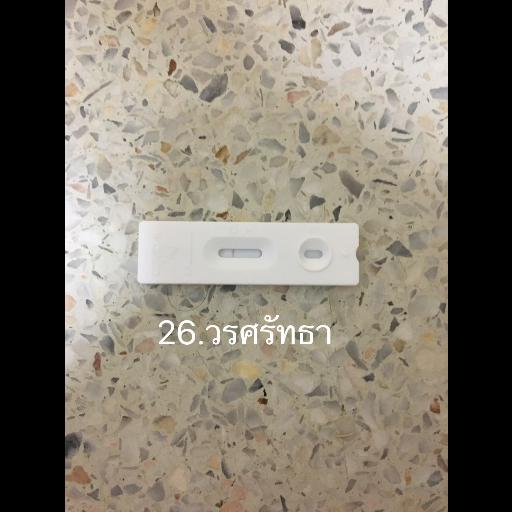Neg: (137, 220, 359, 284)
